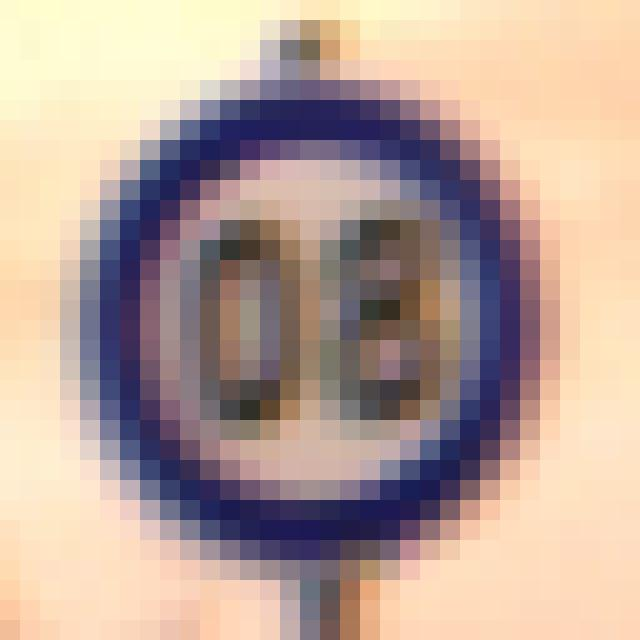SPEED-LIMIT-80: (71, 103, 547, 531)
